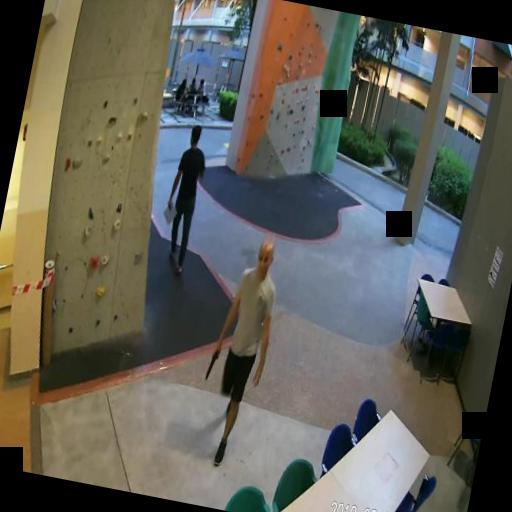Handgun: (205, 344, 221, 378)
